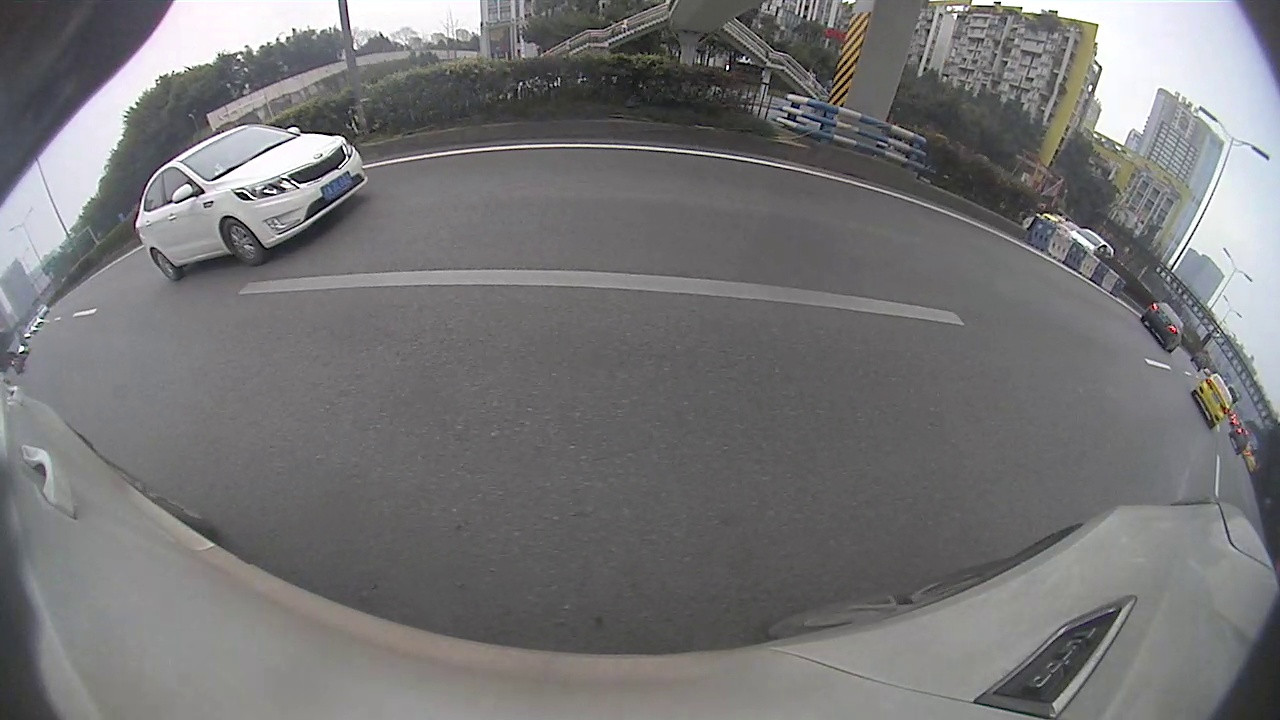car: (131, 120, 372, 283), (1187, 366, 1234, 433), (1140, 300, 1188, 355)
front: (220, 216, 270, 270)
rear: (151, 248, 187, 282)
